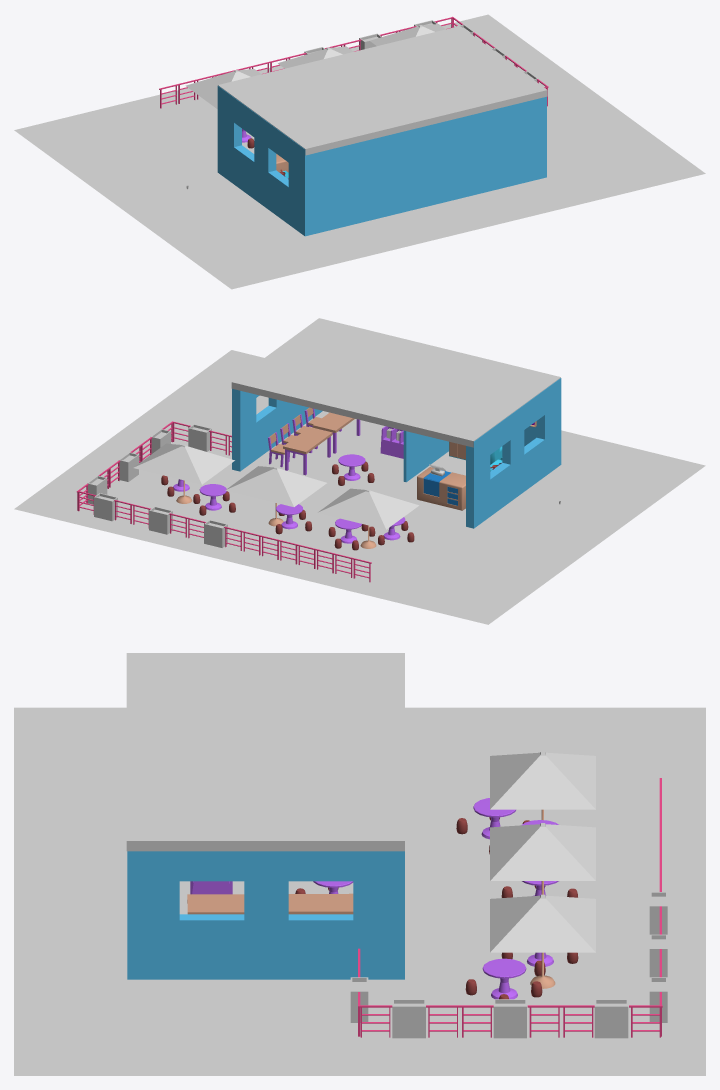
3 renders of one model, top to bottom at view 1: azimuth 30°, elevation 25°; view 2: azimuth 150°, elevation 25°; view 3: azimuth 270°, elevation 25°, orthographic. The views are drawn at different scales.
Parts seen in each view (by area): view 1: Plane001, Box060, Box251, Box206, Box205, Box118; view 2: Plane001, Box251, Box060, Box118, Box205, Box206, ChamferBox003, Box009, Box049, Box241, Box240, Box239 (+3 smaller); view 3: Plane001, Box251, Box060, Box118, Box206, Box205, Box244, Box009, Box242, Box243, Box030, 圆桌001 (+4 smaller).
Part boxes in pixels (bbox=[...]): Plane001: bbox=[14, 14, 705, 289]; Box060: bbox=[217, 86, 546, 236]; Box251: bbox=[218, 26, 547, 155]; Box206: bbox=[185, 69, 261, 108]; Box205: bbox=[278, 46, 353, 68]; Box118: bbox=[370, 24, 445, 45]; Plane001: bbox=[14, 350, 705, 624]; Box251: bbox=[231, 318, 560, 447]; Box060: bbox=[232, 378, 561, 528]; Box118: bbox=[133, 443, 234, 484]; Box205: bbox=[225, 466, 326, 506]; Box206: bbox=[317, 488, 418, 529]; ChamferBox003: bbox=[417, 467, 465, 510]; Box009: bbox=[283, 427, 332, 454]; Box049: bbox=[380, 426, 403, 458]; Box241: bbox=[204, 520, 227, 547]; Box240: bbox=[149, 506, 172, 534]; Box239: bbox=[94, 493, 117, 521]; Plane001: bbox=[14, 707, 705, 1075]; Box251: bbox=[126, 653, 404, 851]; Box060: bbox=[127, 851, 404, 979]; Box118: bbox=[490, 894, 595, 952]; Box206: bbox=[490, 751, 595, 809]; Box205: bbox=[490, 823, 595, 880]; Box244: bbox=[594, 999, 628, 1038]; Box009: bbox=[288, 893, 353, 914]; Box242: bbox=[392, 999, 425, 1038]; Box243: bbox=[493, 999, 526, 1038]; Box030: bbox=[187, 894, 244, 914]; 圆桌001: bbox=[482, 958, 526, 999].
Bounding box in the file's own units: 20.58 × 3.66 × 16.35.
